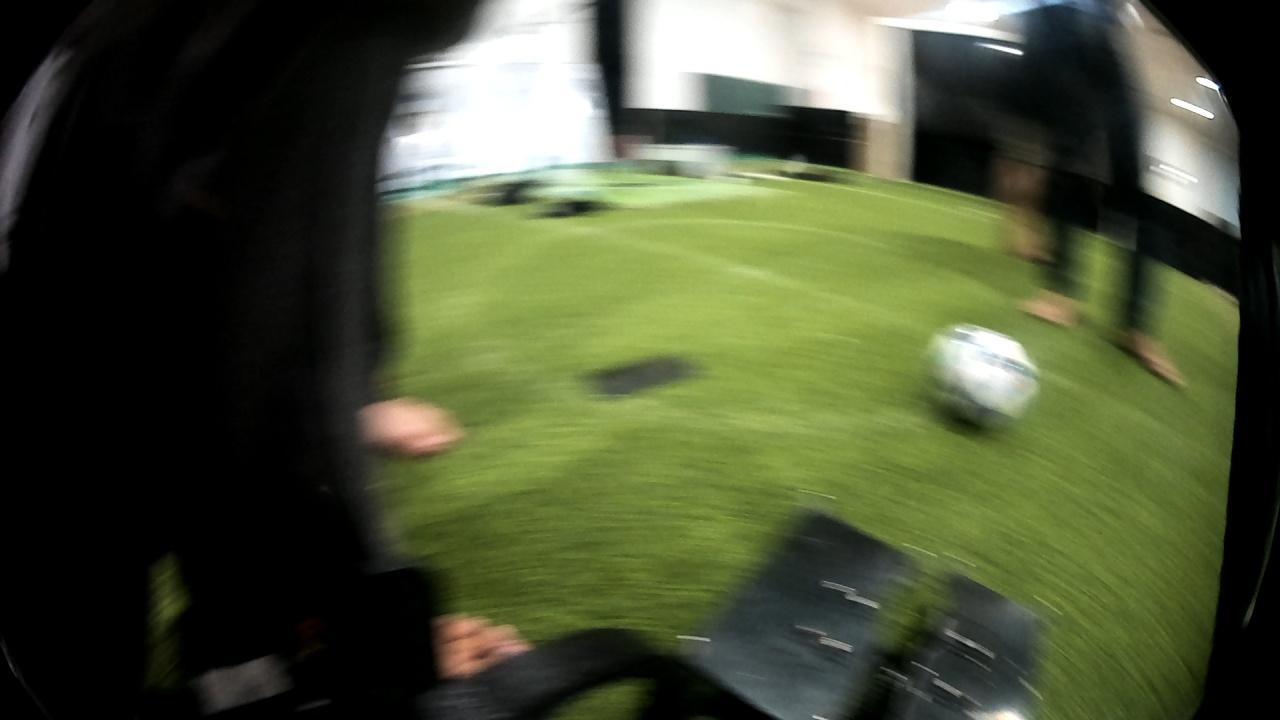ball: (920, 309, 1045, 443)
